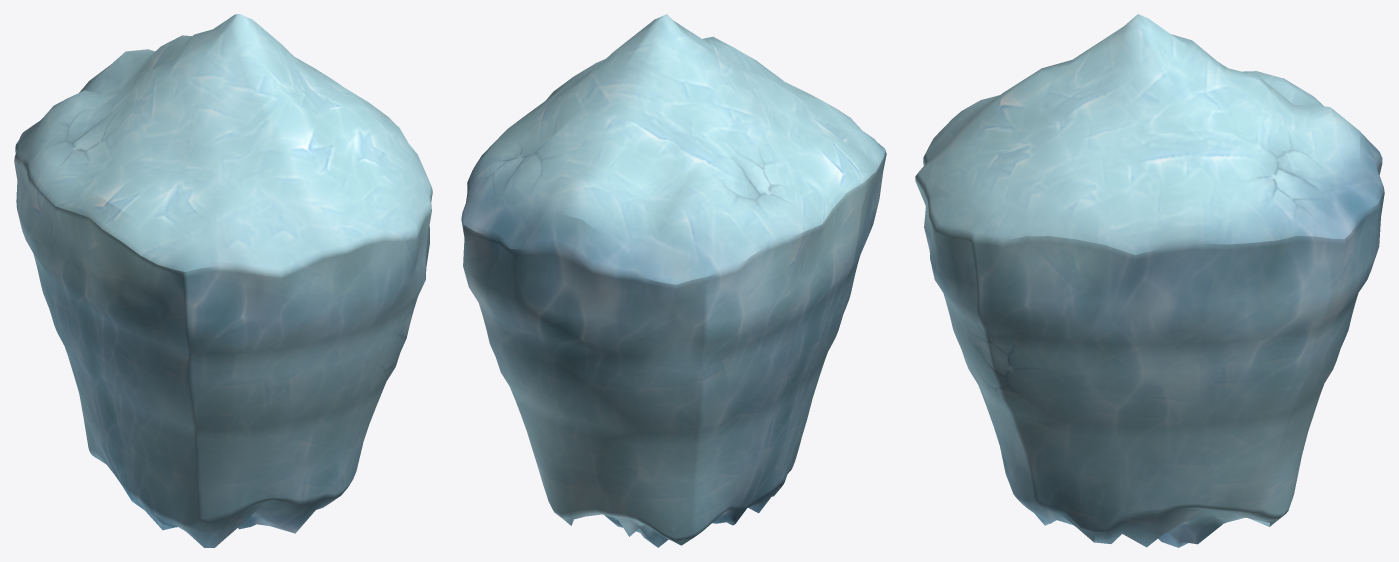
Rendered from Iceberg C2.fbx.
3 renders of one model, left to right at view 1: azimuth 30°, elevation 25°; view 2: azimuth 150°, elevation 25°; view 3: azimuth 270°, elevation 25°, orthographic. The views are drawn at different scales.
Parts seen in each view (by area): view 1: Iceberg_C2; view 2: Iceberg_C2; view 3: Iceberg_C2.
Boxes of the visible parts, x1,y1,x2,y2 form: Iceberg_C2: (14,14,432,547); Iceberg_C2: (461,14,886,547); Iceberg_C2: (915,14,1384,547).
Bounding box in the file's own units: 29.36 × 44.93 × 36.05.
